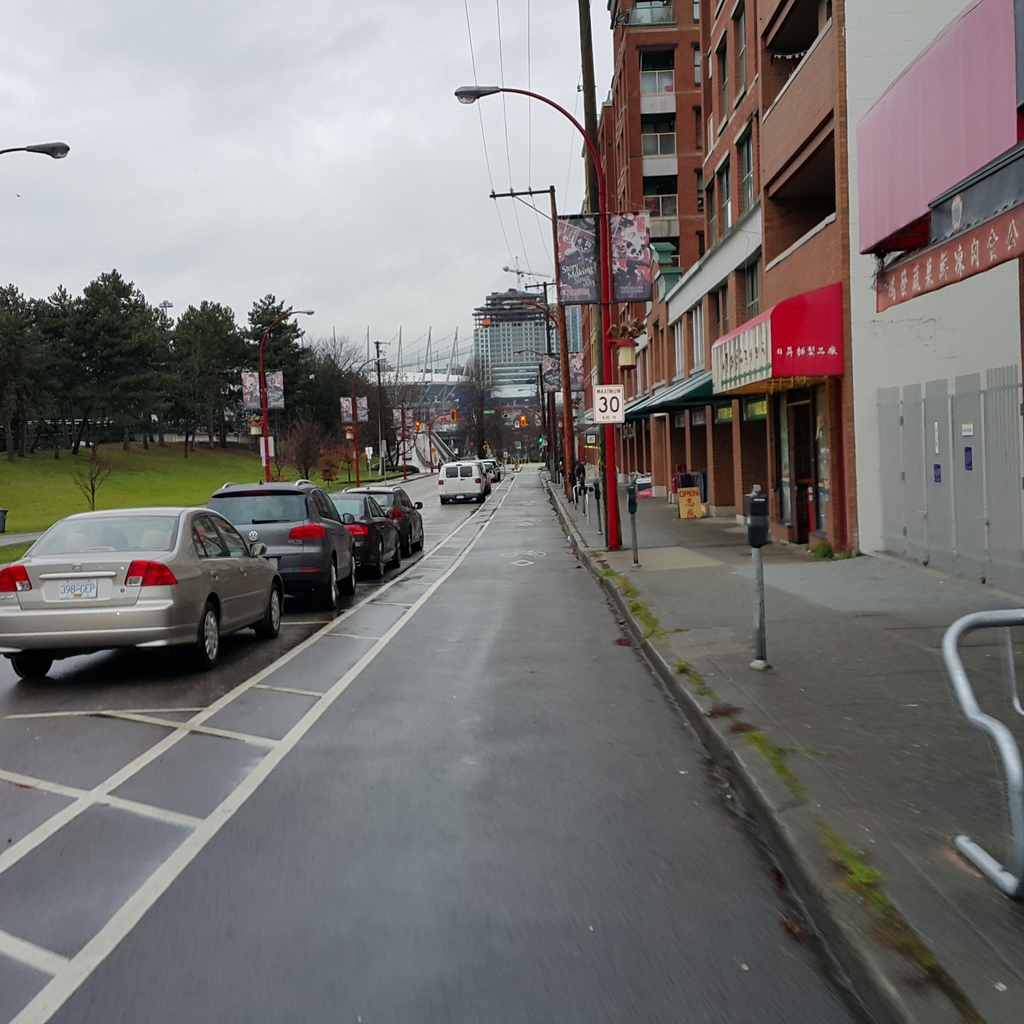Car: (12, 491, 293, 677), (198, 476, 357, 616), (325, 488, 404, 574), (360, 483, 430, 551), (435, 455, 492, 502), (476, 455, 506, 476)
